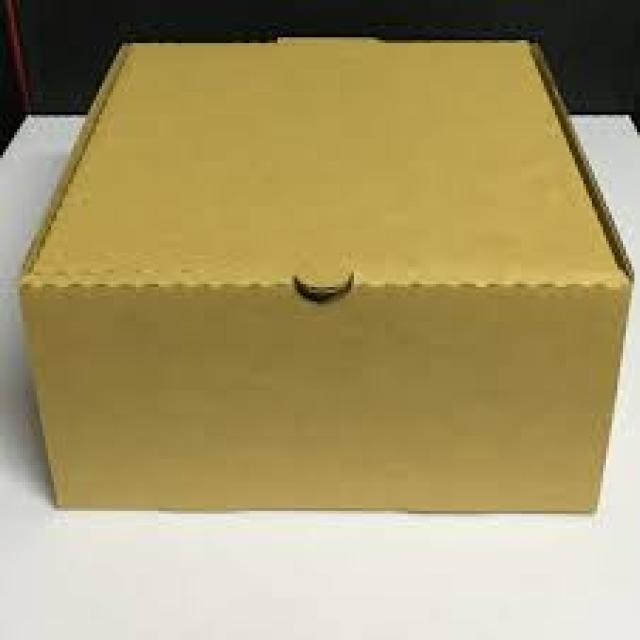Cardboard: (14, 43, 624, 508)
